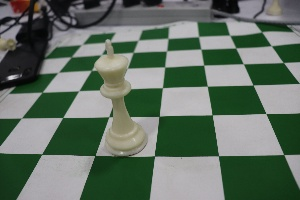white_king: (82, 30, 153, 161)
